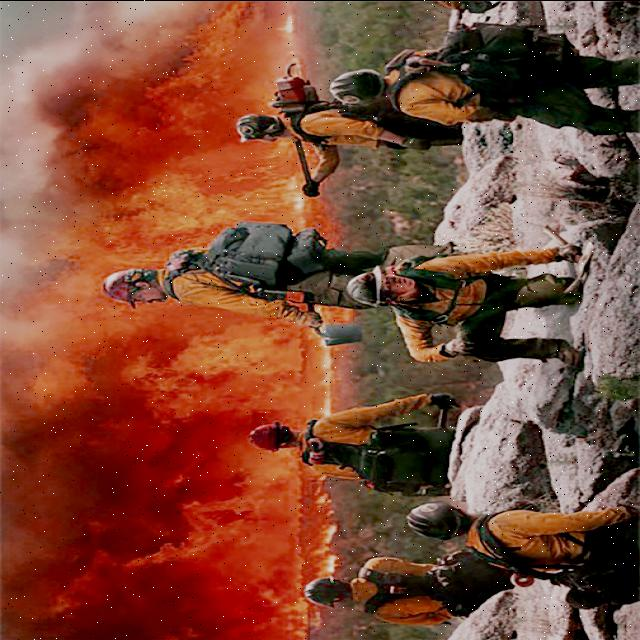api: (88, 2, 322, 258), (158, 299, 356, 429), (256, 464, 340, 640)
asap: (1, 329, 241, 640), (1, 3, 223, 245), (1, 466, 289, 640)
